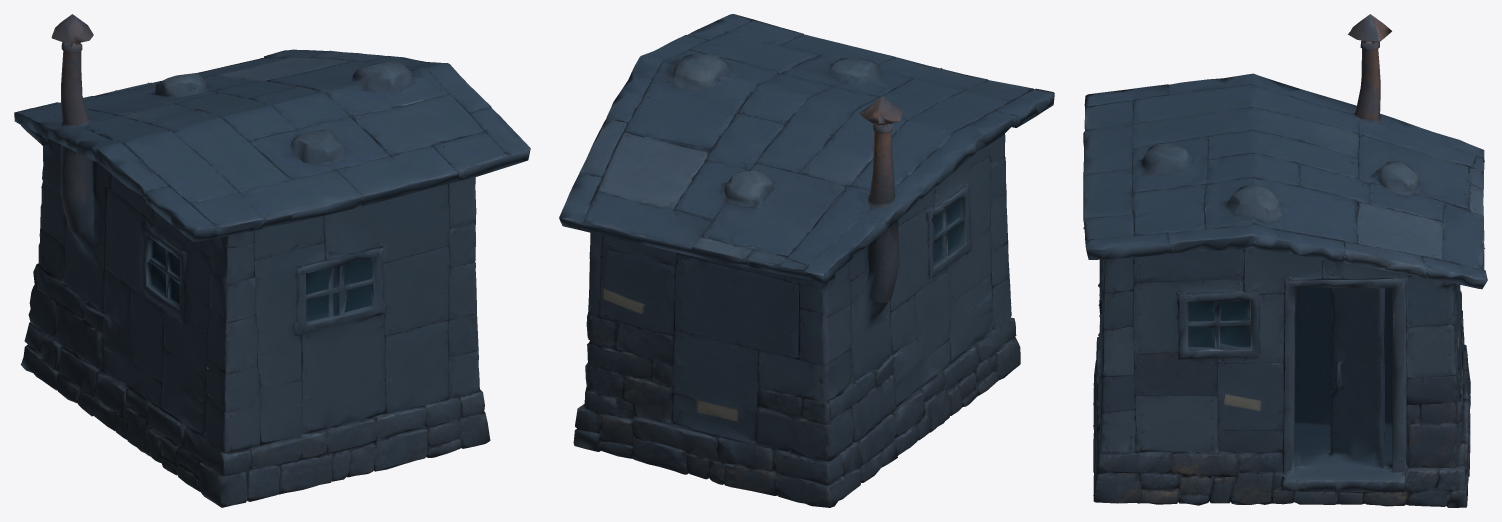
The model's file is hut-c.glb.
The picture shows the model from 3 angles, left to right: view 1: azimuth 30°, elevation 25°; view 2: azimuth 150°, elevation 25°; view 3: azimuth 270°, elevation 25°; orthographic projection. The views are drawn at different scales.
Visible parts, largest first — view 1: tripo_node_30daa2bd-460d-4bd0-81fd-bab9f72e0bfd; view 2: tripo_node_30daa2bd-460d-4bd0-81fd-bab9f72e0bfd; view 3: tripo_node_30daa2bd-460d-4bd0-81fd-bab9f72e0bfd.
Boxes of the visible parts, x1,y1,x2,y2 form: tripo_node_30daa2bd-460d-4bd0-81fd-bab9f72e0bfd: (14,14,530,507); tripo_node_30daa2bd-460d-4bd0-81fd-bab9f72e0bfd: (559,14,1054,507); tripo_node_30daa2bd-460d-4bd0-81fd-bab9f72e0bfd: (1083,14,1487,507).
Size of the model in its own units: 2.36 by 2.5 by 2.47.
1 material, 1 textured.
